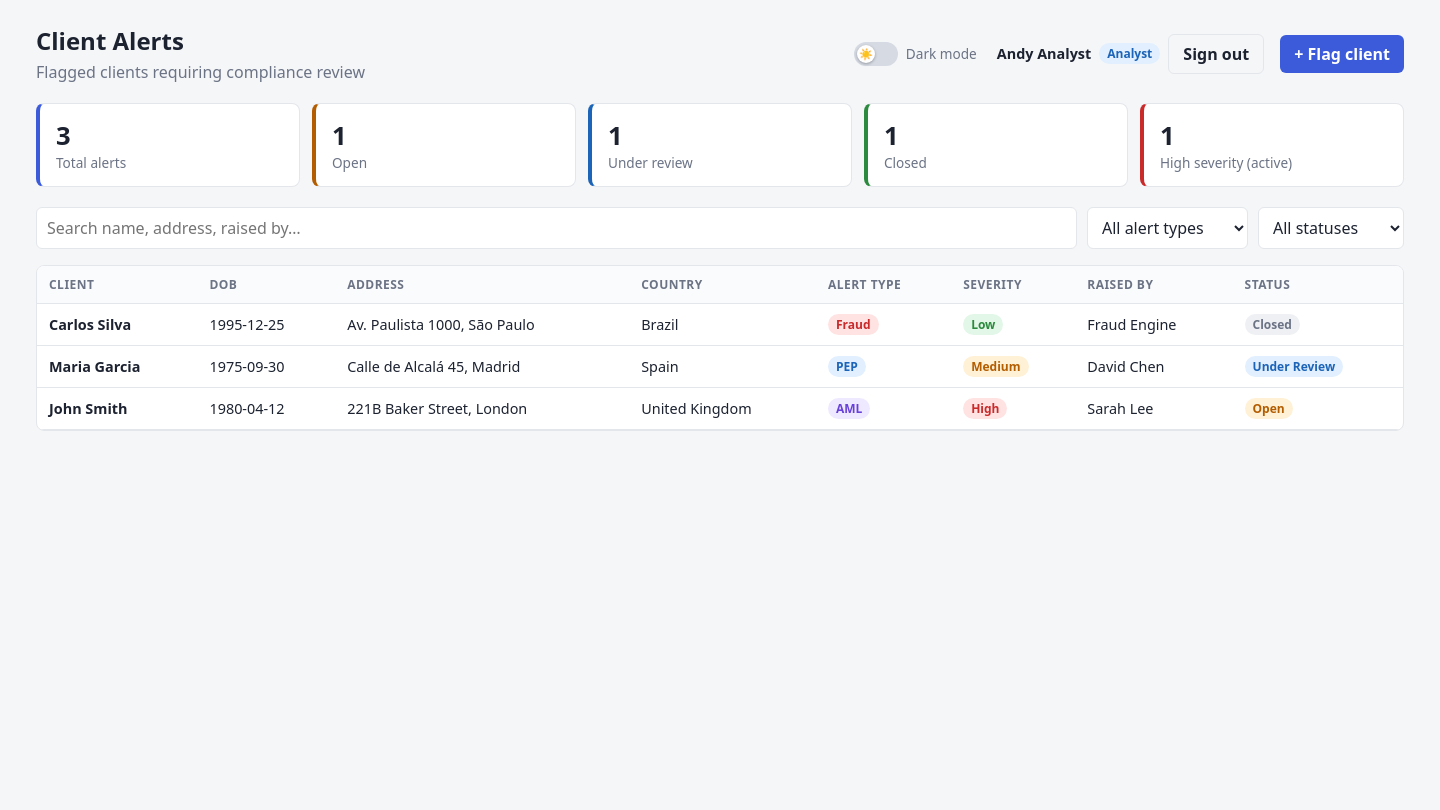
Scenario: alert history timeline › adds an update to the timeline without refetching
The width and height of the screenshot is (1440, 810).
Click the text "John Smith" at (117, 408), box [37, 388, 197, 430]
(page scrolled)
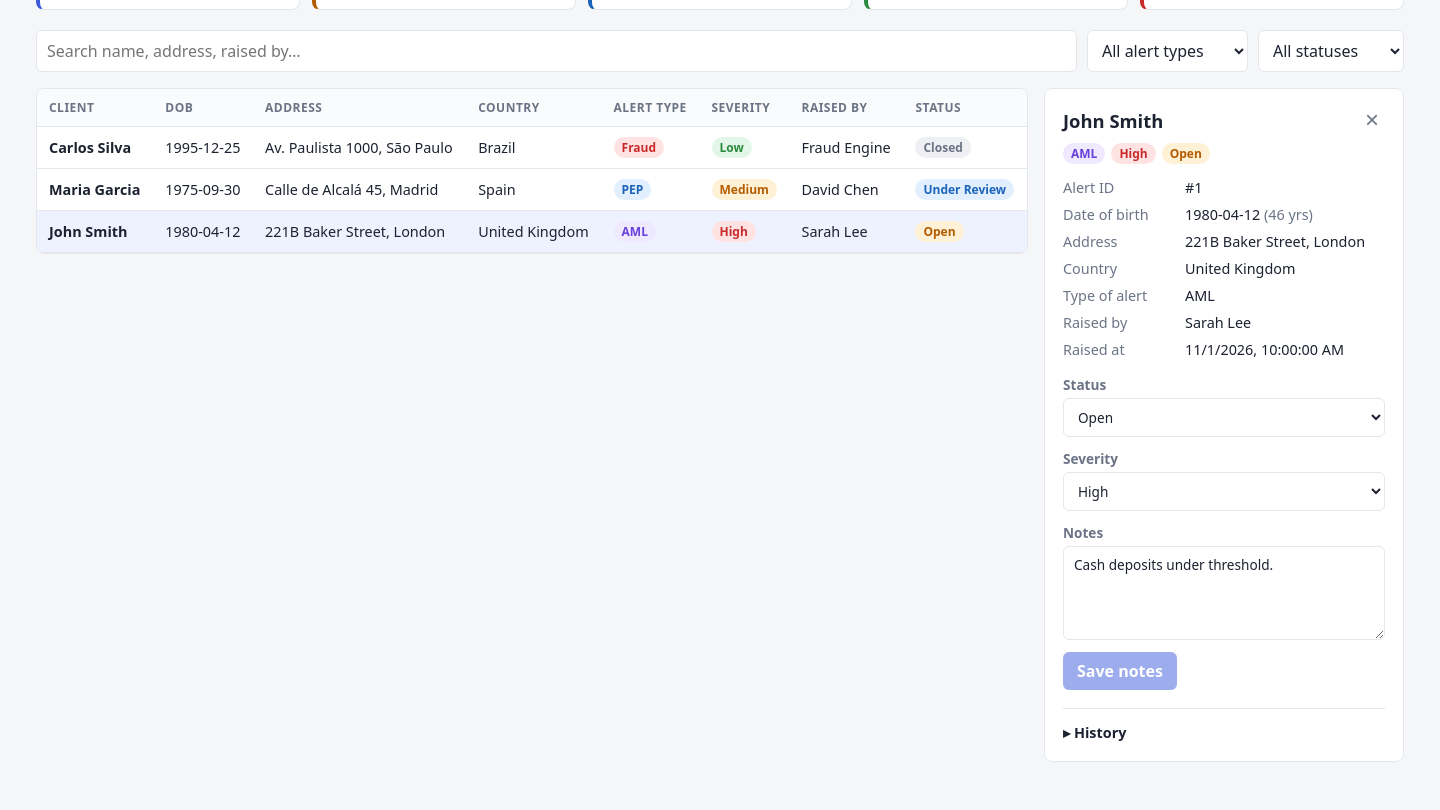
Click the button "▸ History" at (1095, 732), box [1063, 723, 1126, 742]
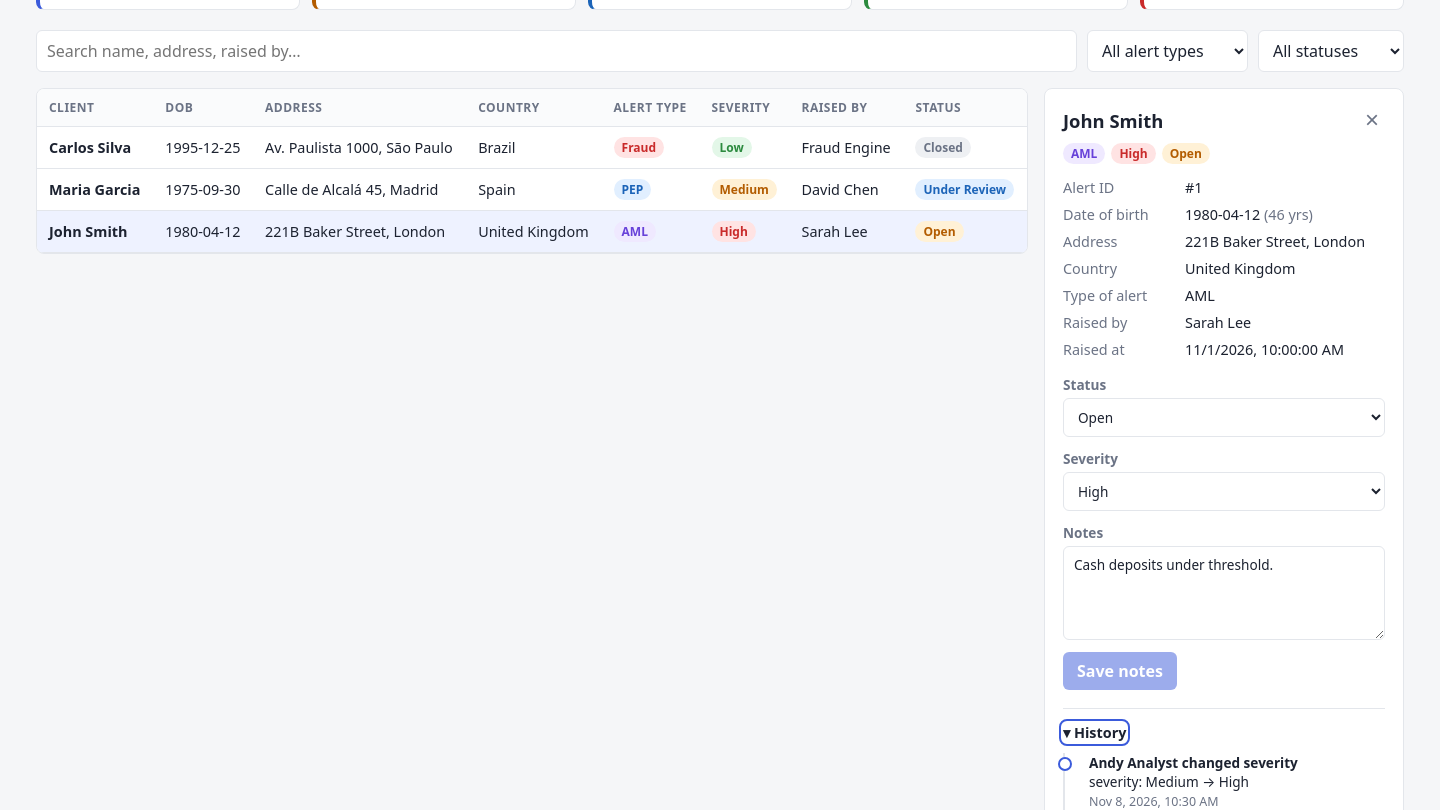
Select "Closed" in the dropdown labelled "Status" at (1224, 418), box [1063, 398, 1385, 437]
(page scrolled)
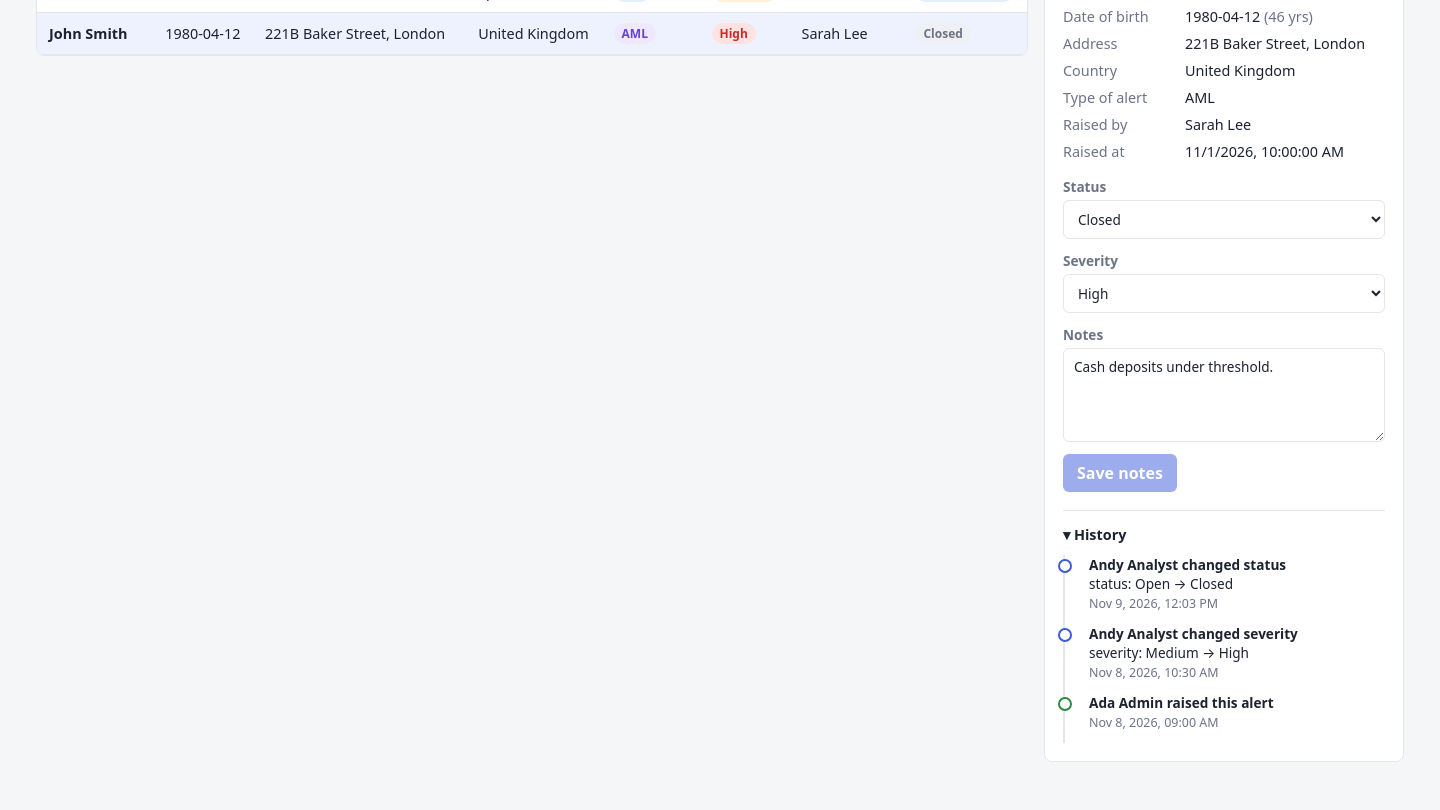
Now the list item that starts with "Andy Analyst changed status" reads "Andy Analyst changed status status: Open → Closed Nov 9, 2026, 12:03 PM", box [1089, 555, 1286, 612]
